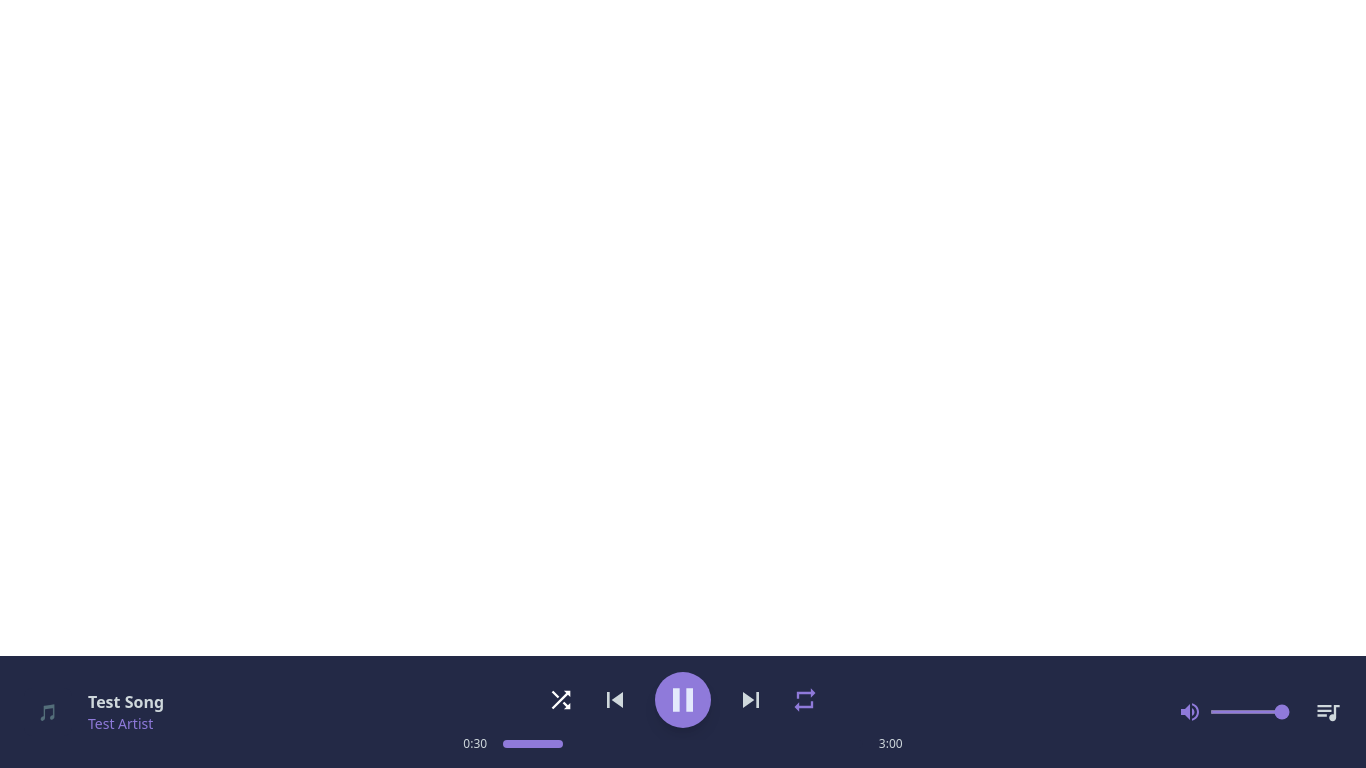
Test case: Player › should wrap to last track on prev at start with repeat all
The width and height of the screenshot is (1366, 768).
Click the button titled "Previous" at (615, 700), box [599, 684, 631, 716]
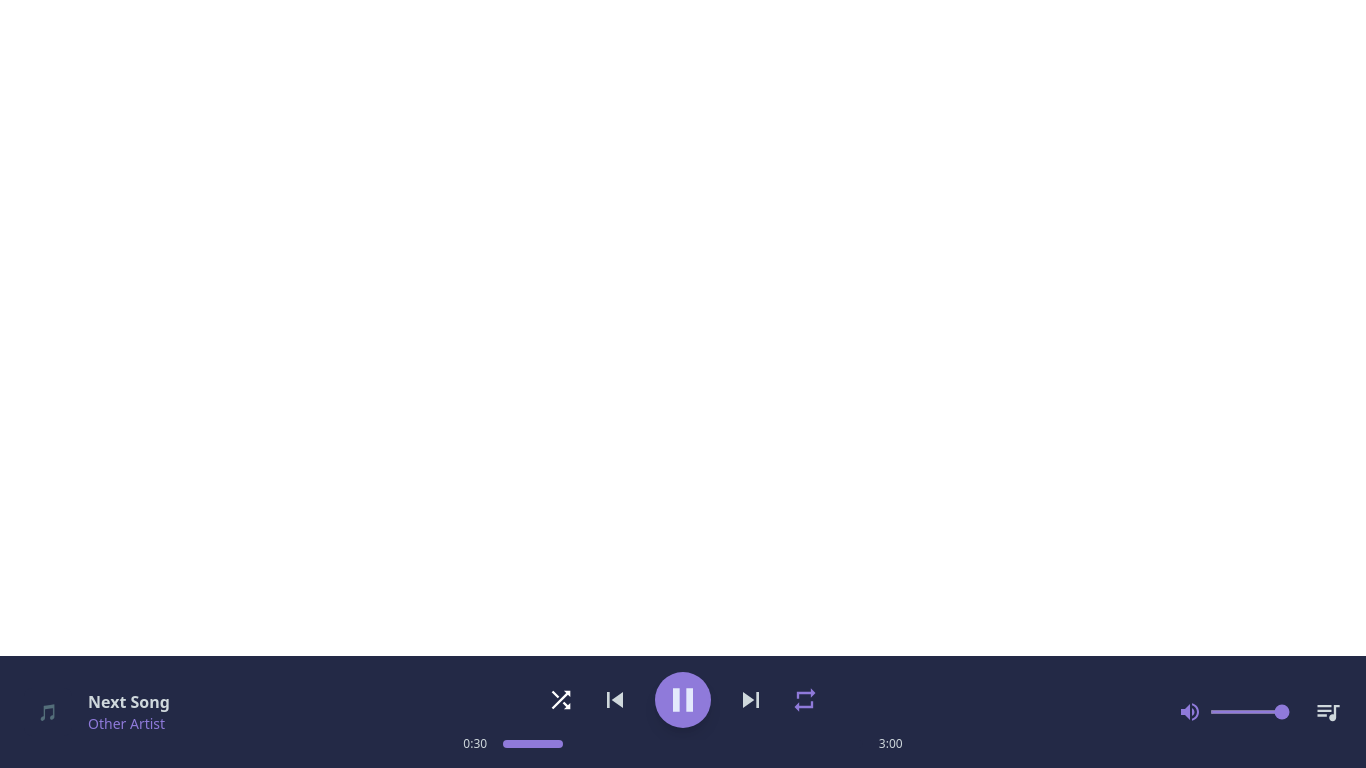
Expected: the text "Next Song" is shown, [88, 690, 170, 714]
